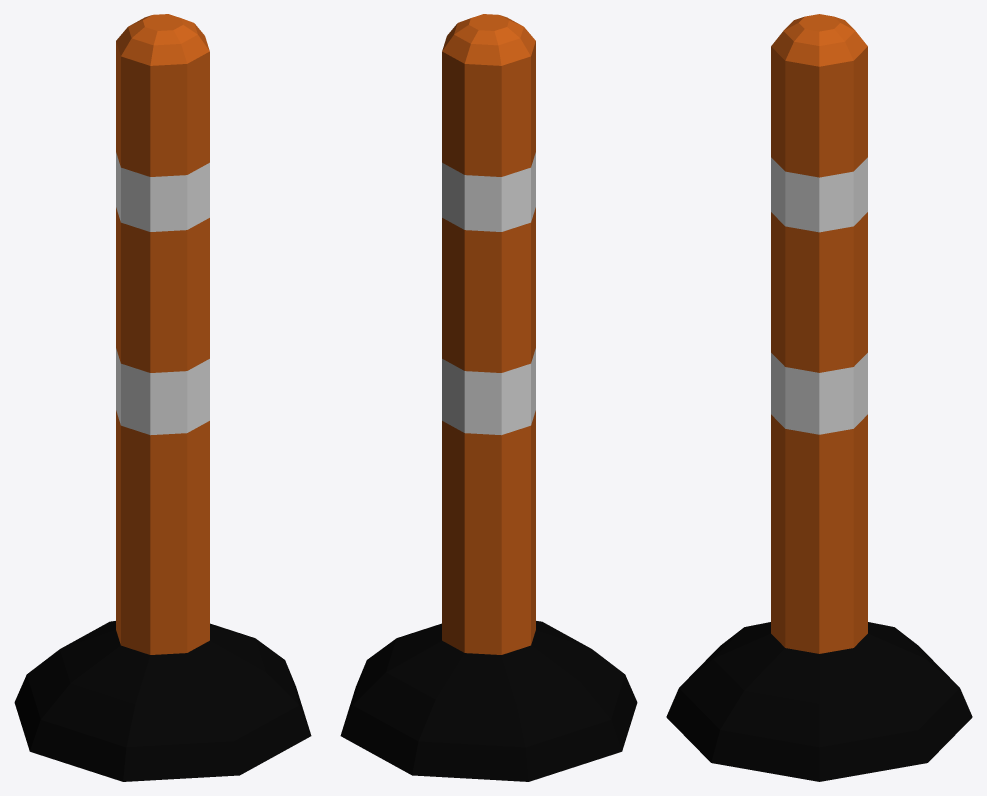
Rendered from trafic_pillar.fbx.
3 views of the same model, side by side, from view 1: azimuth 30°, elevation 25°; view 2: azimuth 150°, elevation 25°; view 3: azimuth 270°, elevation 25° (orthographic).
Visible parts, largest first — view 1: Pillar; view 2: Pillar; view 3: Pillar.
Boxes of the visible parts, x1,y1,x2,y2 form: Pillar: (14, 14, 311, 781); Pillar: (340, 14, 637, 781); Pillar: (666, 14, 972, 781).
Size of the model in its own units: 40 by 100 by 40.
